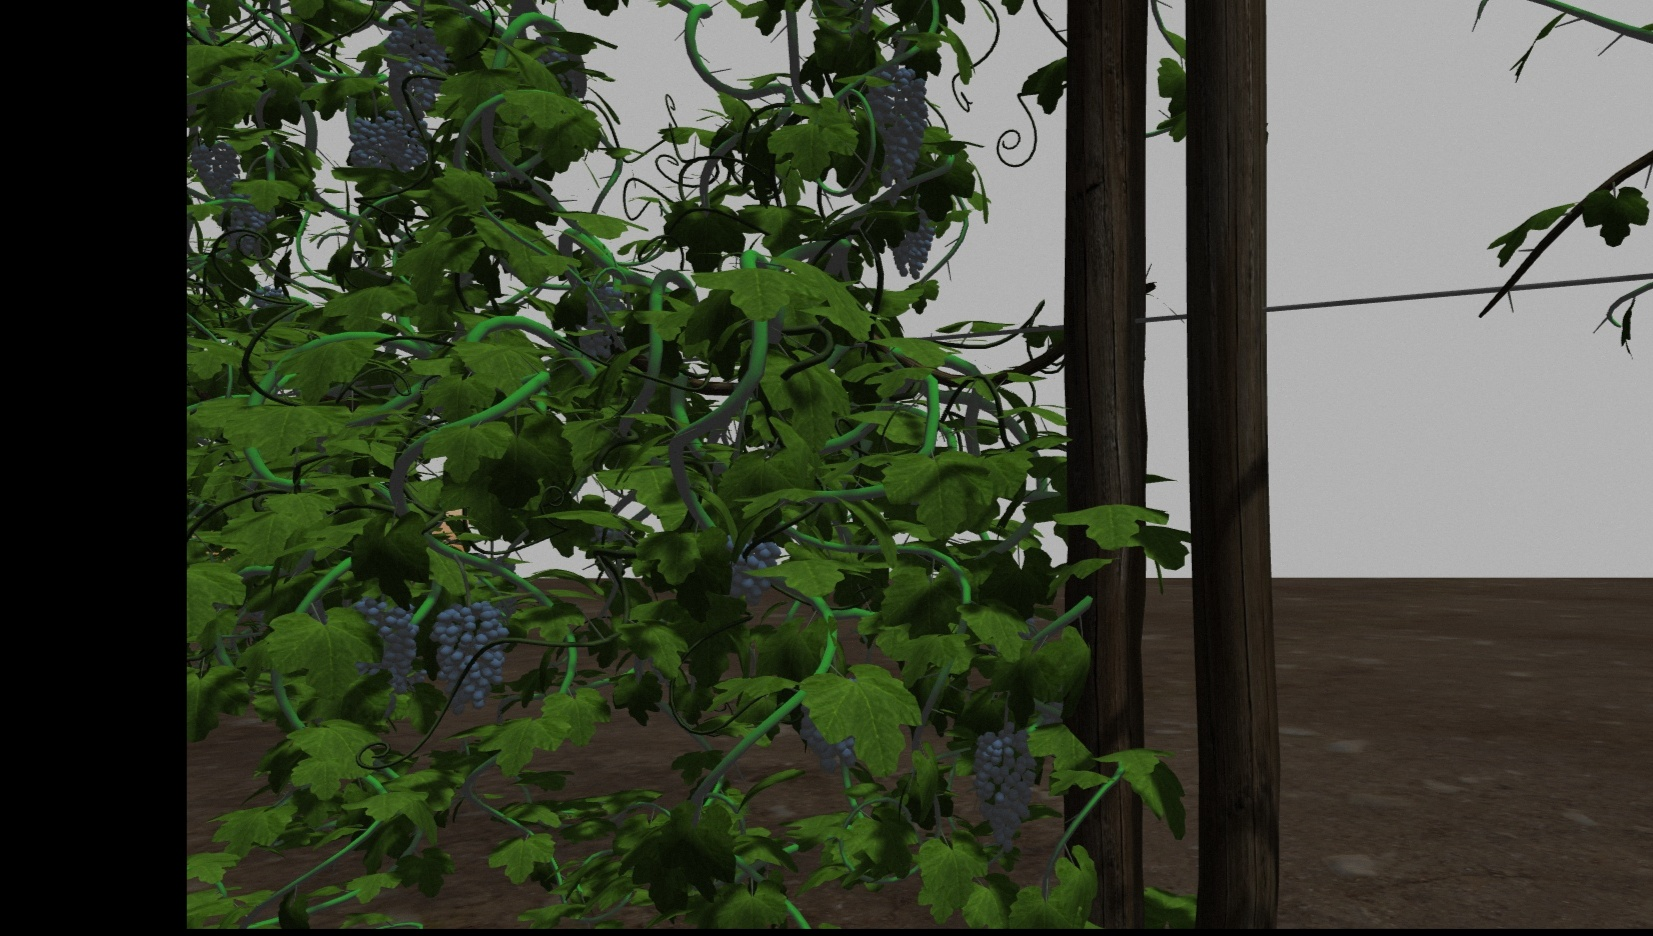grape: (973, 721, 1039, 856), (861, 65, 929, 187), (431, 600, 503, 714), (378, 26, 445, 115), (728, 536, 784, 604), (380, 601, 417, 692), (889, 212, 935, 279), (380, 110, 429, 169), (226, 203, 276, 257), (190, 142, 240, 193), (349, 109, 381, 172)
